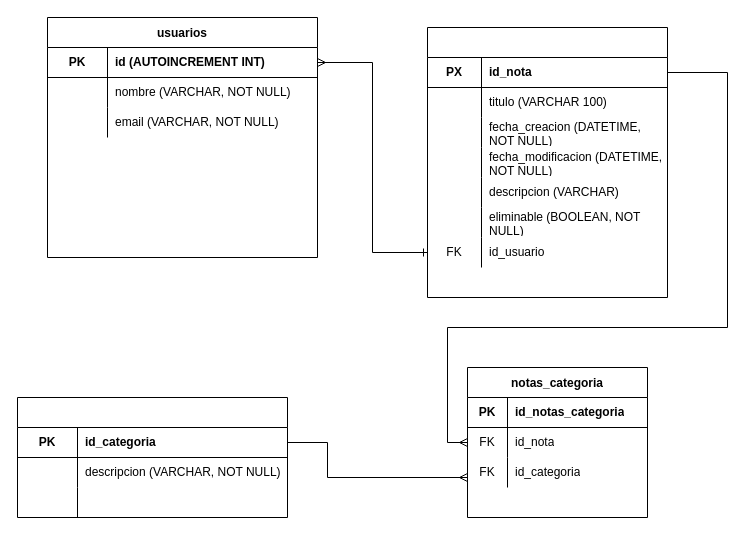
The diagram is 753 pixels wide and 535 high, and some of its shapes have lost their labels. Each missing label, with the box of its shape:
categorias: (16, 396, 288, 518)
notas: (426, 26, 668, 298)
